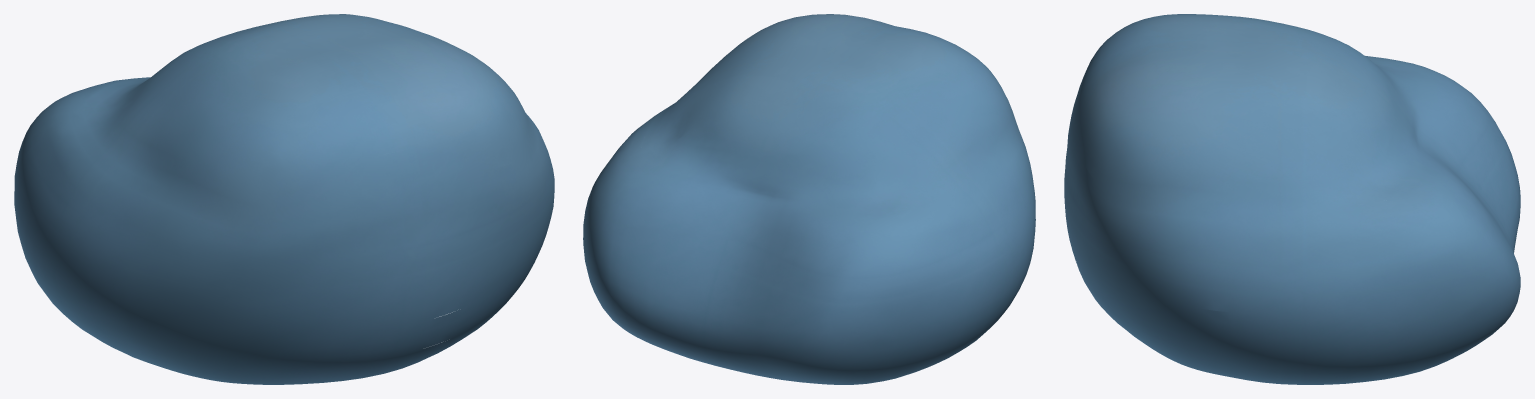
File: rock.glb
The picture shows the model from 3 angles, left to right: view 1: azimuth 30°, elevation 25°; view 2: azimuth 150°, elevation 25°; view 3: azimuth 270°, elevation 25°; orthographic projection. The views are drawn at different scales.
Parts seen in each view (by area): view 1: tripo_42543dc7_5982_4cca_bba1_a9690bff689c; view 2: tripo_42543dc7_5982_4cca_bba1_a9690bff689c; view 3: tripo_42543dc7_5982_4cca_bba1_a9690bff689c.
Boxes of the visible parts, x1,y1,x2,y2 form: tripo_42543dc7_5982_4cca_bba1_a9690bff689c: (14, 14, 554, 384); tripo_42543dc7_5982_4cca_bba1_a9690bff689c: (583, 14, 1035, 384); tripo_42543dc7_5982_4cca_bba1_a9690bff689c: (1064, 14, 1520, 384).
Bounding box in the file's own units: 0.9995 × 0.6167 × 0.9351.
Materials: 1 (1 with a texture image).
